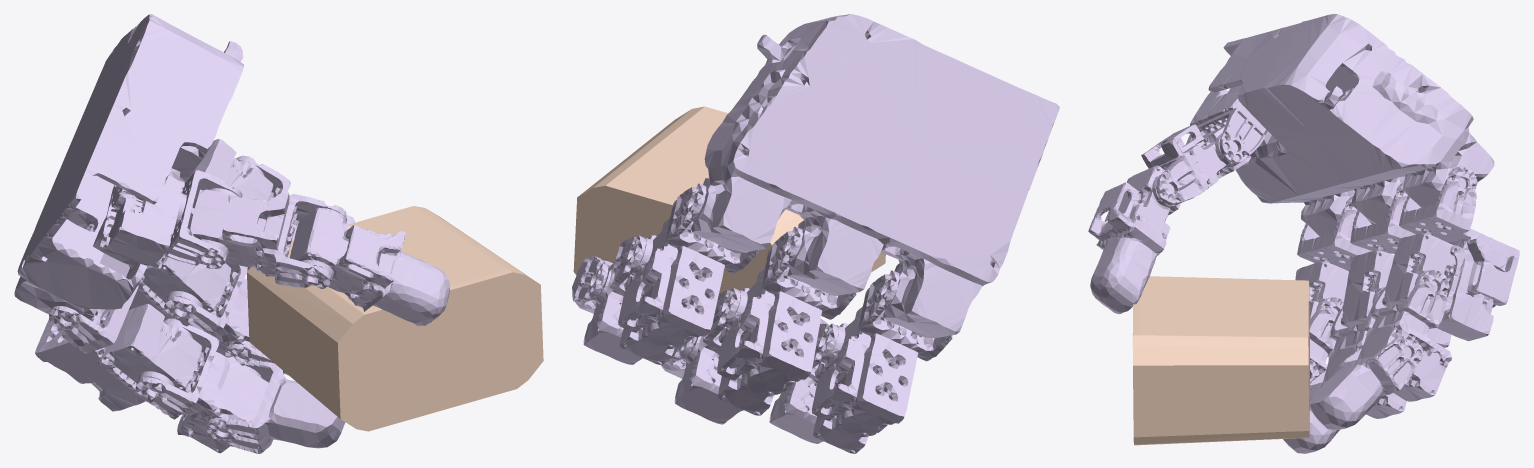
The model's file is b49491538060df-closed.glb.
3 renders of one model, left to right at view 1: azimuth 30°, elevation 25°; view 2: azimuth 150°, elevation 25°; view 3: azimuth 270°, elevation 25°, orthographic. The views are drawn at different scales.
Parts seen in each view (by area): view 1: LEAP_hand, world; view 2: LEAP_hand, world; view 3: LEAP_hand, world.
Part boxes in pixels (x1,y1,x2,y2): LEAP_hand: (14,14,449,453); world: (247,206,543,431); LEAP_hand: (572,14,1059,453); world: (573,106,885,293); LEAP_hand: (1088,14,1519,453); world: (1132,276,1309,445).
Size of the model in its own units: 0.2084 by 0.2057 by 0.2046.
